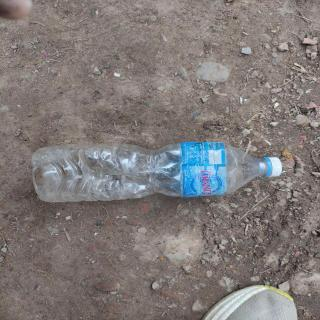Plastic-bottle: (30, 140, 288, 207)
